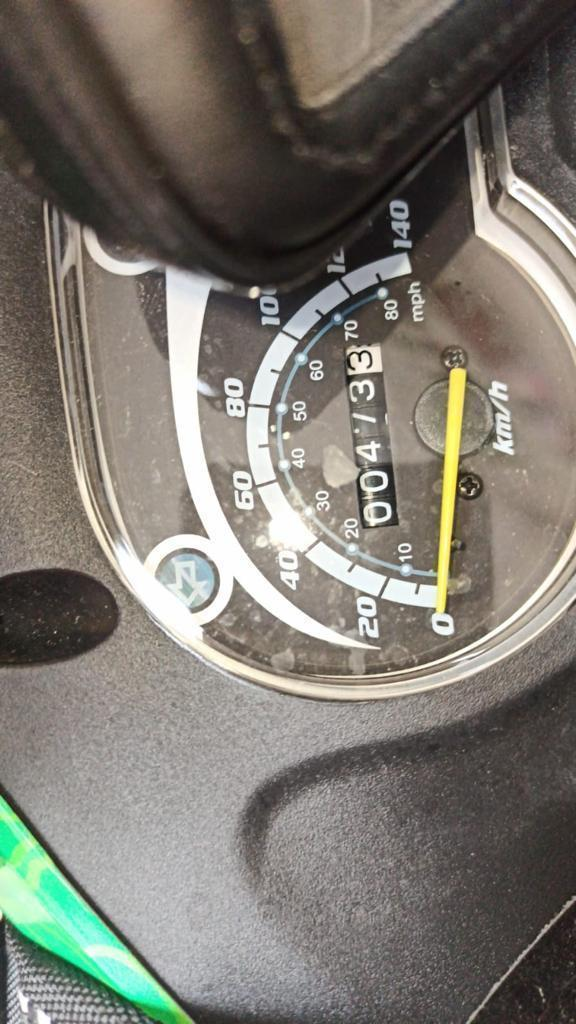0: (356, 469, 392, 493), (363, 499, 394, 524), (343, 516, 358, 529)
2: (344, 528, 360, 538)
3: (344, 347, 373, 372), (347, 378, 375, 403)
4: (352, 437, 385, 462)
7: (348, 410, 377, 434)
odometer: (340, 341, 408, 537)
